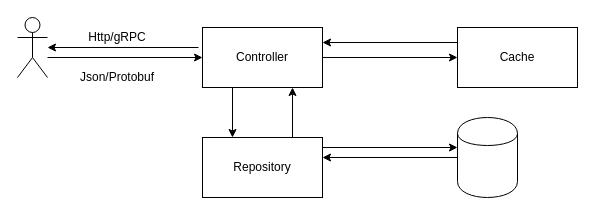
The diagram is 595 pixels wide and 215 high, and some of its shapes have lost their labels. The centre of each missing label's shape, as x and y in pixels:
Client: point 32,47
Database: point 487,157
